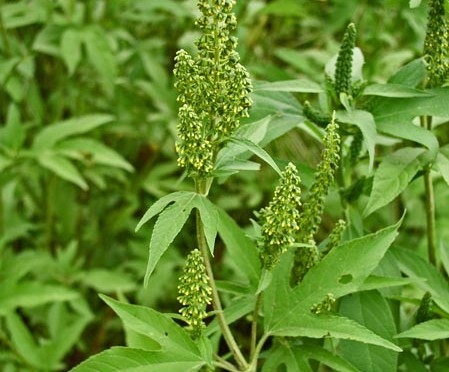Giant Ragweed: (178, 1, 255, 175), (249, 158, 313, 265), (174, 243, 215, 335)
